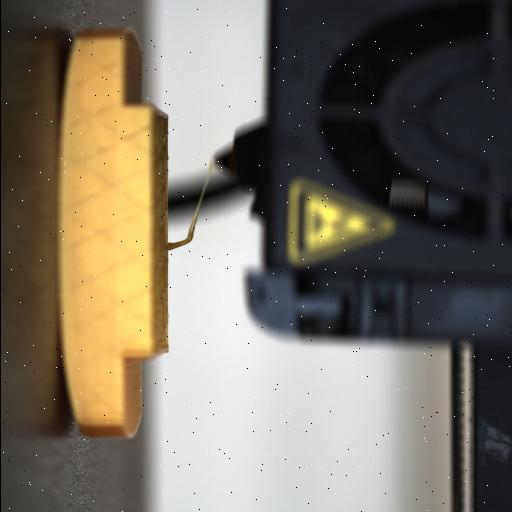warp: (54, 30, 88, 430)
